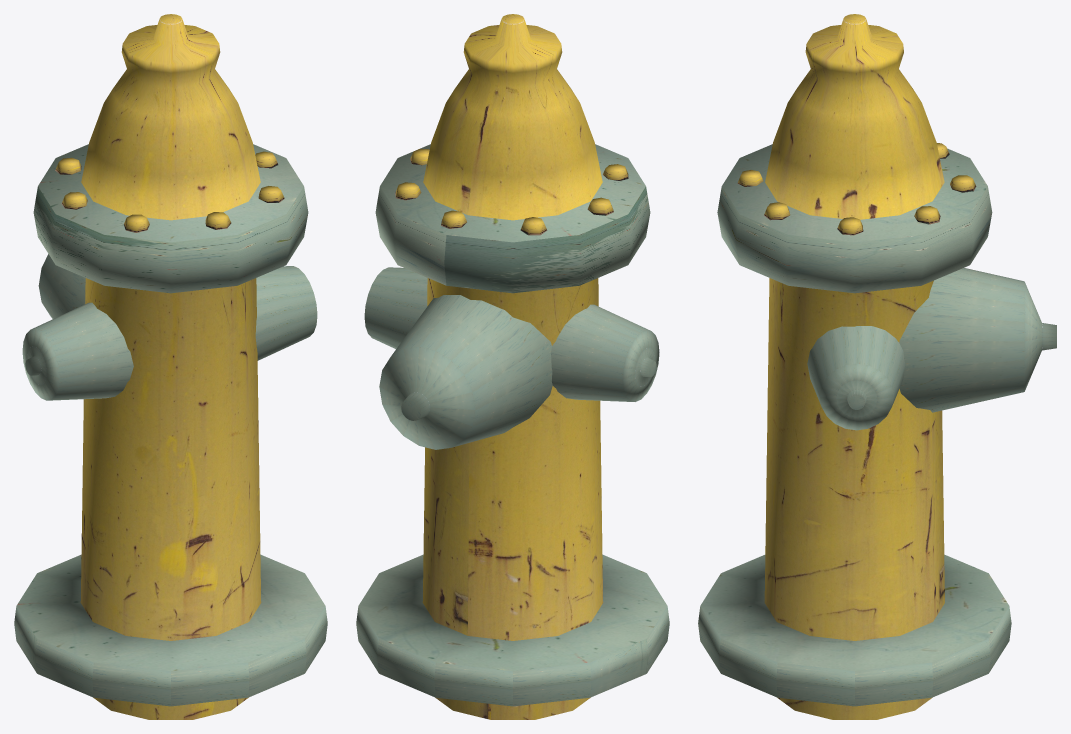
File: fire_hydrant.fbx
The picture shows the model from 3 angles, left to right: view 1: azimuth 30°, elevation 25°; view 2: azimuth 150°, elevation 25°; view 3: azimuth 270°, elevation 25°; orthographic projection.
Visible parts, largest first — view 1: fire_hydrant; view 2: fire_hydrant; view 3: fire_hydrant.
Part boxes in pixels (x1=…): fire_hydrant: x1=14, y1=14, x2=327, y2=719; fire_hydrant: x1=356, y1=14, x2=669, y2=719; fire_hydrant: x1=698, y1=14, x2=1056, y2=719.
Size of the model in its own units: 1.03 by 2.34 by 1.14.
